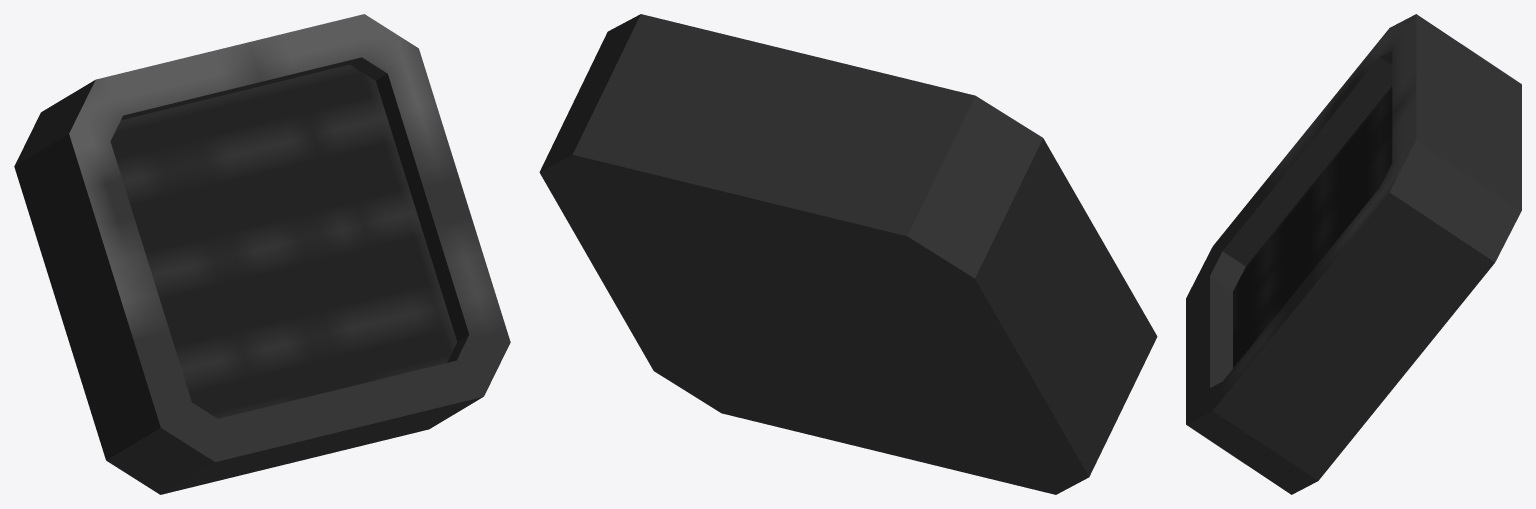
File: SM_EnergyDIplayer.fbx
3 renders of one model, left to right at view 1: azimuth 30°, elevation 25°; view 2: azimuth 150°, elevation 25°; view 3: azimuth 270°, elevation 25°, orthographic. The views are drawn at different scales.
Visible parts, largest first — view 1: Cube.047; view 2: Cube.047; view 3: Cube.047.
Part boxes in pixels (x1,y1,x2,y2): Cube.047: [14, 14, 510, 494]; Cube.047: [539, 14, 1157, 494]; Cube.047: [1186, 14, 1521, 494].
Size of the model in its own units: 200 by 201 by 173.
